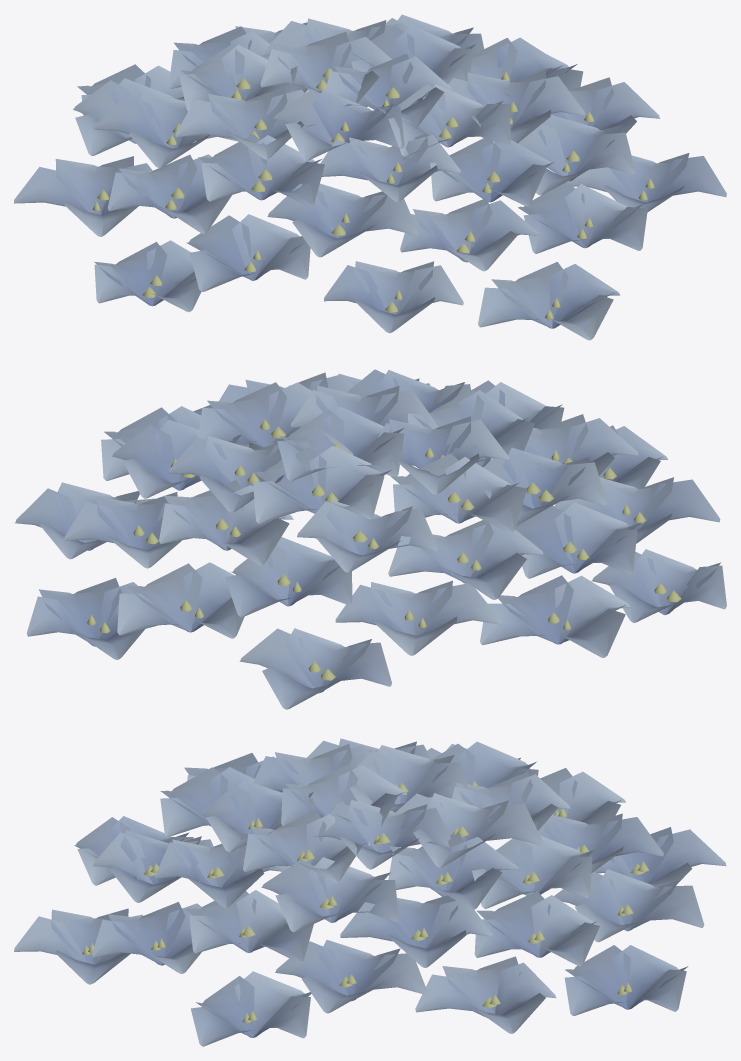
Rendered from hydrangea.glb.
3 views of the same model, one above another, from view 1: azimuth 30°, elevation 25°; view 2: azimuth 150°, elevation 25°; view 3: azimuth 270°, elevation 25° (orthographic). The views are drawn at different scales.
Visible parts, largest first — view 1: hydrangea.001; view 2: hydrangea.001; view 3: hydrangea.001.
Boxes of the visible parts, <box> form: hydrangea.001: <box>14,14,726,340</box>; hydrangea.001: <box>15,369,726,709</box>; hydrangea.001: <box>14,738,726,1046</box>.
Bounding box in the file's own units: 0.101 × 0.0242 × 0.1101.
